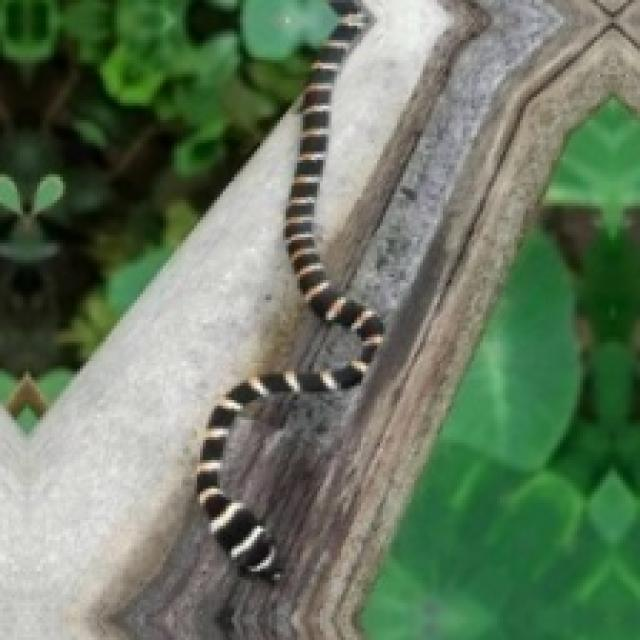paradise tree snake: (197, 0, 380, 577)
